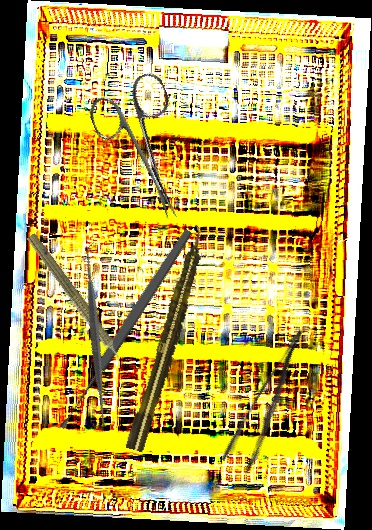Dressing Forceps: (218, 327, 326, 475)
Handpiece: (123, 224, 213, 454), (21, 230, 132, 374)
Iris Scissors: (82, 69, 212, 233)
Spatula Surgical: (2, 242, 189, 429)
Surgical Spoon: (55, 227, 195, 431)
